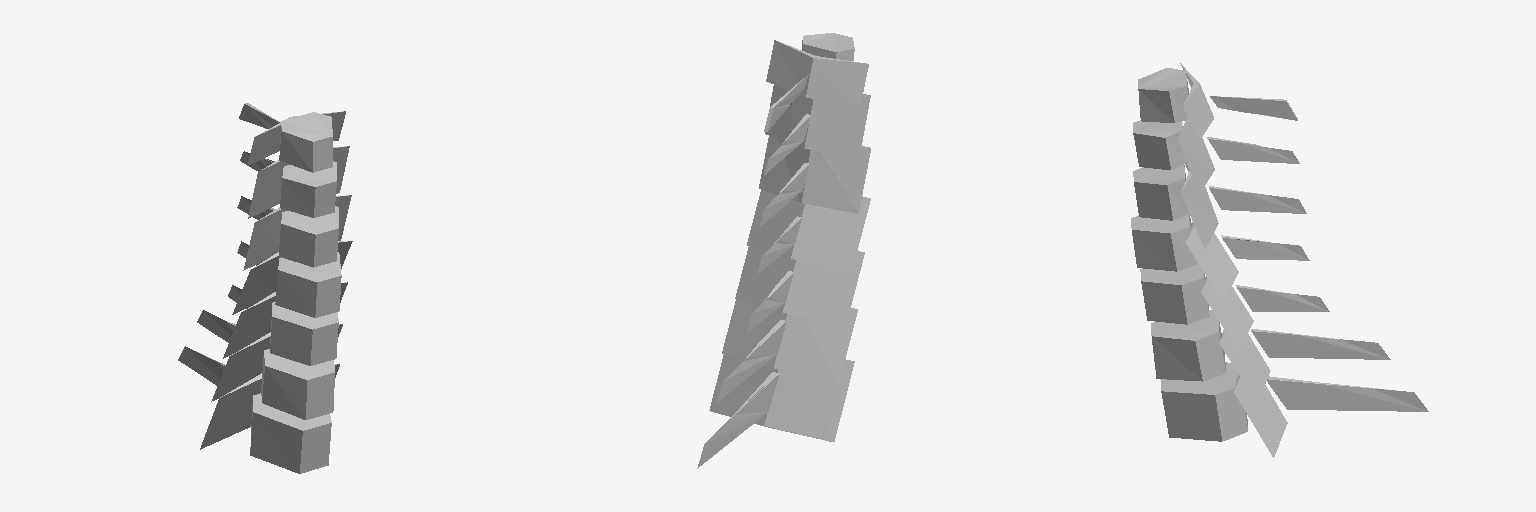
Rendered from tronc.obj.
The picture shows the model from 3 angles: view 1: azimuth 30°, elevation 25°; view 2: azimuth 150°, elevation 25°; view 3: azimuth 270°, elevation 25°; orthographic projection.
Visible parts, largest first — view 1: CERVNECK01_CERVNECK01_WHITE_BONE; view 2: CERVNECK01_CERVNECK01_WHITE_BONE; view 3: CERVNECK01_CERVNECK01_WHITE_BONE.
Boxes of the visible parts, x1,y1,x2,y2 form: CERVNECK01_CERVNECK01_WHITE_BONE: [178, 103, 352, 473]; CERVNECK01_CERVNECK01_WHITE_BONE: [697, 33, 870, 468]; CERVNECK01_CERVNECK01_WHITE_BONE: [1131, 63, 1428, 457].
Bounding box in the file's own units: 2.11 × 5.7 × 4.4.